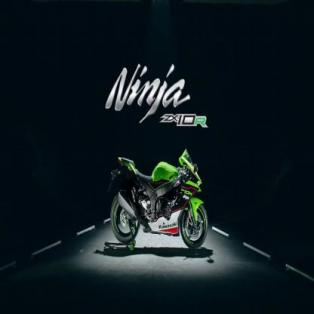Motocicleta: (105, 147, 209, 257)
